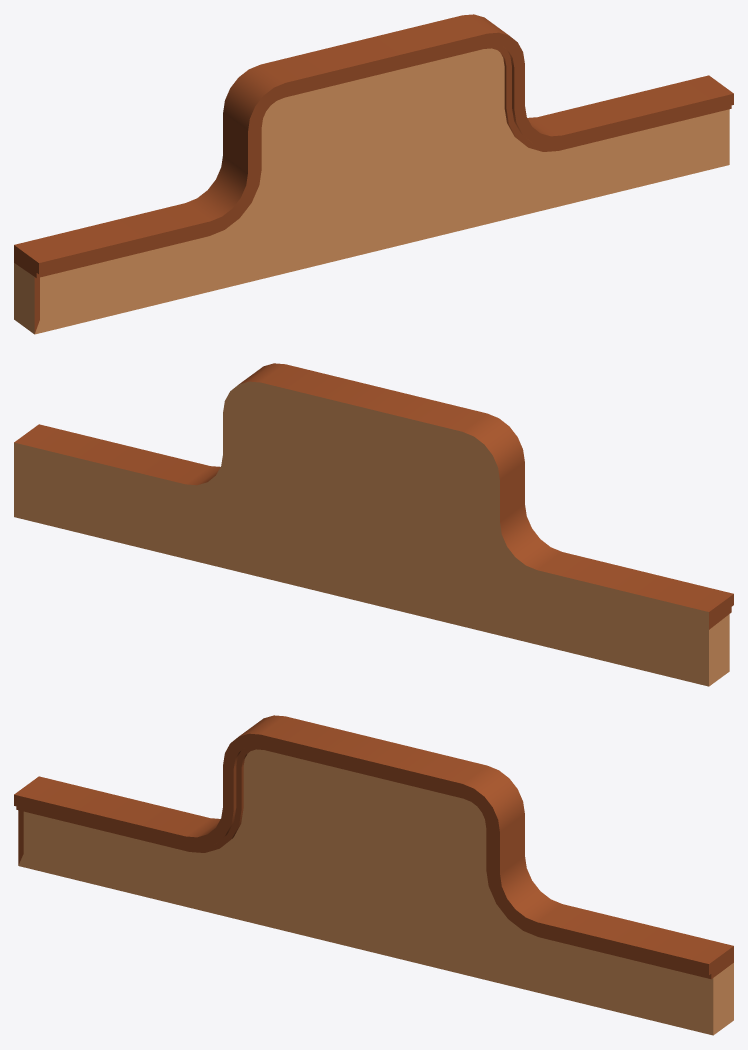
The model's file is ROOF_A3.fbx.
3 views of the same model, one above another, from view 1: azimuth 30°, elevation 25°; view 2: azimuth 150°, elevation 25°; view 3: azimuth 330°, elevation 25° (orthographic).
Visible parts, largest first — view 1: ROOF_A3; view 2: ROOF_A3; view 3: ROOF_A3.
Boxes of the visible parts, bbox=[...] form: ROOF_A3: bbox=[14, 14, 733, 334]; ROOF_A3: bbox=[14, 363, 733, 686]; ROOF_A3: bbox=[14, 715, 733, 1035].
Bounding box in the file's own units: 694 × 186 × 43.2.
